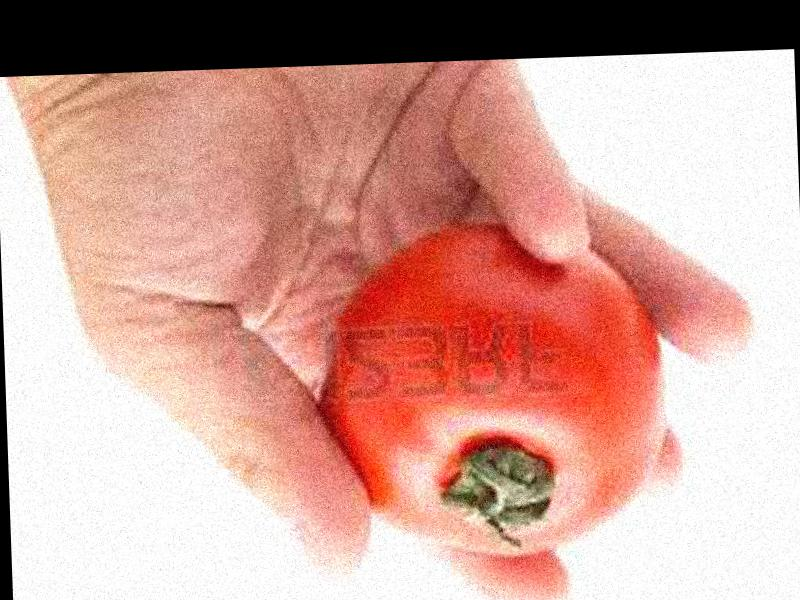Tomato: (318, 219, 671, 562)
